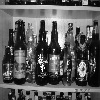beer: (13, 18, 30, 89)
